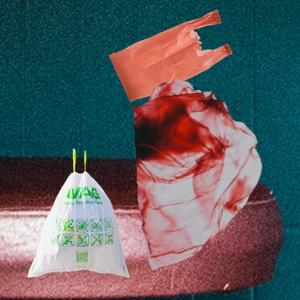plastic_bag: (27, 143, 133, 284), (105, 8, 236, 104)
